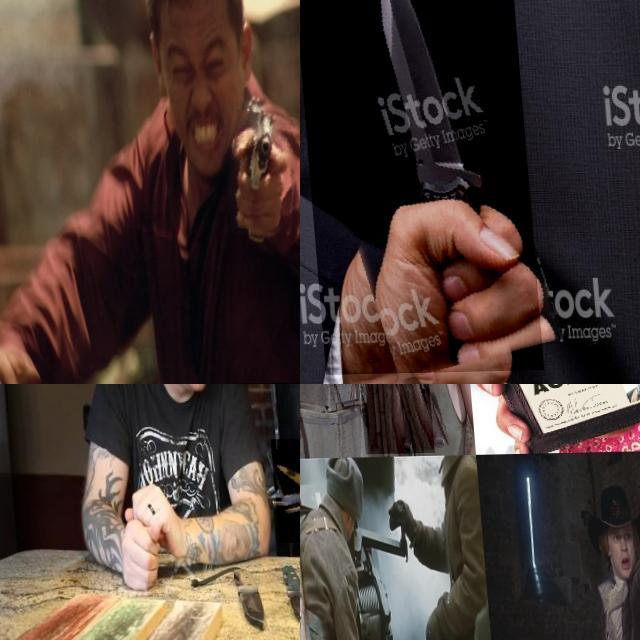-: (300, 0, 534, 375), (265, 438, 300, 544)
gun-knife-thesis - v11 Yolov5 augmented: (340, 384, 429, 537), (216, 112, 297, 236), (300, 458, 324, 640), (0, 12, 33, 133)
